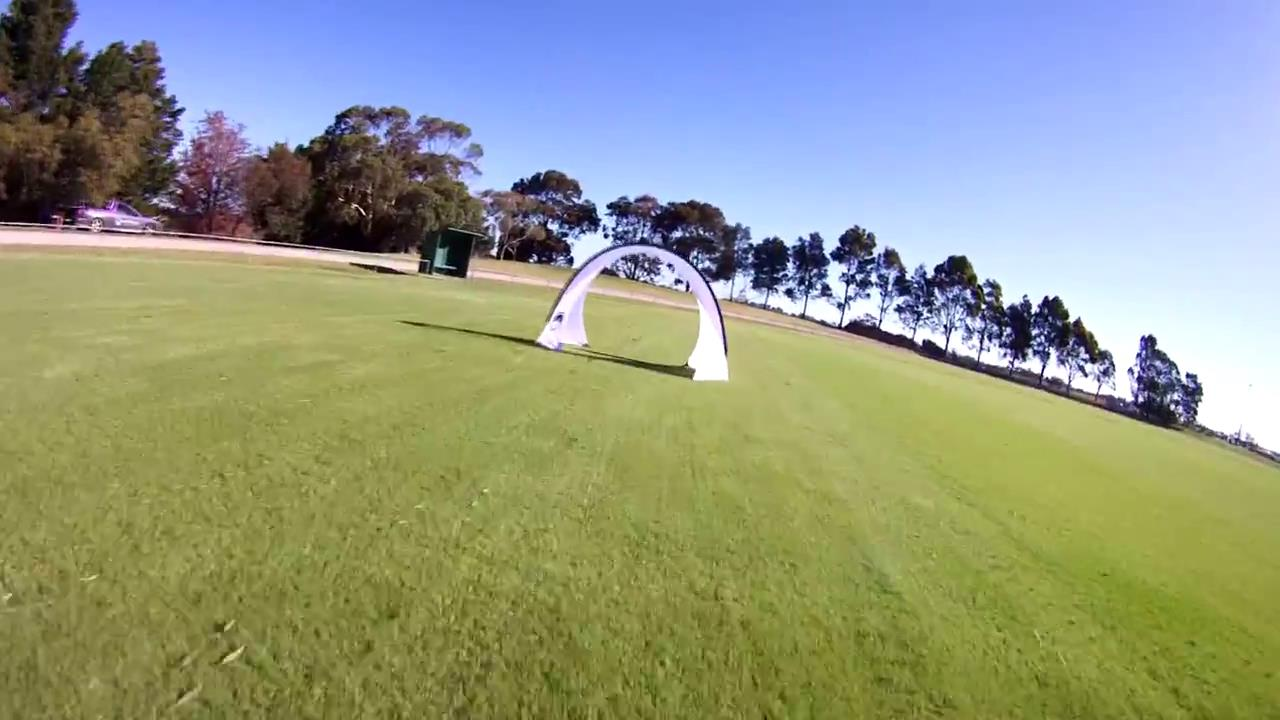gate: (536, 241, 733, 385)
